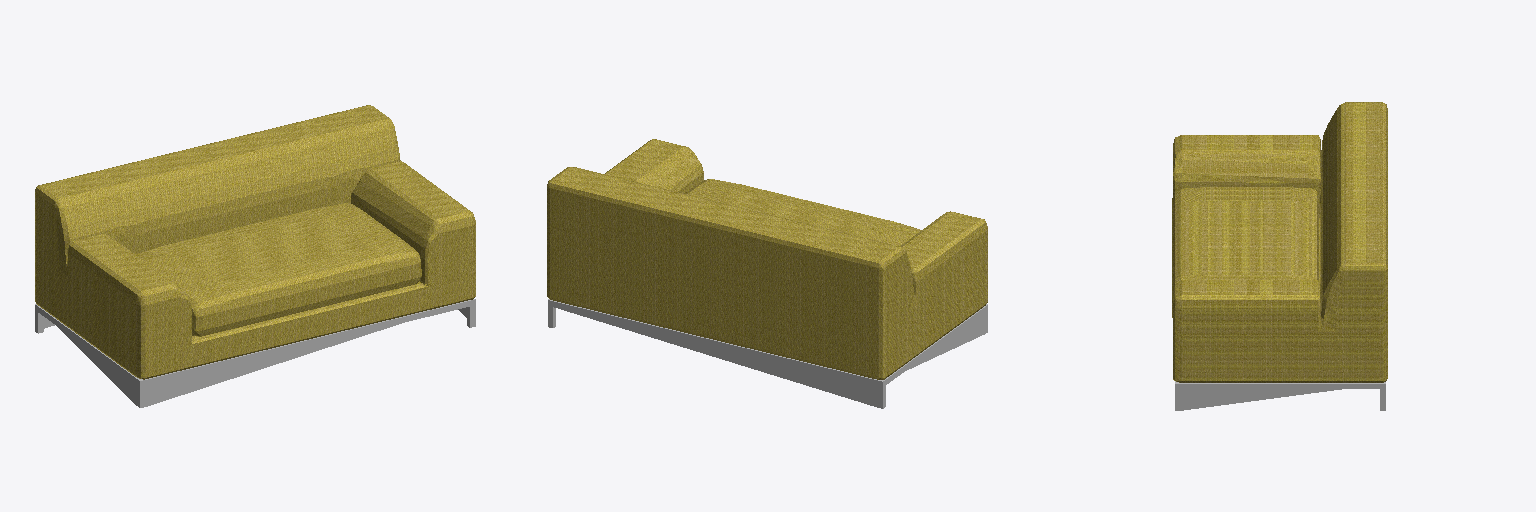
3 renders of one model, left to right at view 1: azimuth 30°, elevation 25°; view 2: azimuth 150°, elevation 25°; view 3: azimuth 270°, elevation 25°, orthographic.
Visible parts, largest first — view 1: Mesh2 Box24 Group1 Kramfors_Two_seat_sofa1 Model, Mesh1 Object12 Group1 Kramfors_Two_seat_sofa1 Model, Mesh3 Component_10_1 Group1 Kramfors_Two_seat_sofa1 Model; view 2: Mesh2 Box24 Group1 Kramfors_Two_seat_sofa1 Model, Mesh3 Component_10_1 Group1 Kramfors_Two_seat_sofa1 Model, Mesh1 Object12 Group1 Kramfors_Two_seat_sofa1 Model; view 3: Mesh2 Box24 Group1 Kramfors_Two_seat_sofa1 Model, Mesh1 Object12 Group1 Kramfors_Two_seat_sofa1 Model, Mesh3 Component_10_1 Group1 Kramfors_Two_seat_sofa1 Model.
Boxes of the visible parts, box(x1,y1,x2,y2) form: Mesh2 Box24 Group1 Kramfors_Two_seat_sofa1 Model: box(35, 105, 475, 379); Mesh1 Object12 Group1 Kramfors_Two_seat_sofa1 Model: box(135, 203, 421, 336); Mesh3 Component_10_1 Group1 Kramfors_Two_seat_sofa1 Model: box(35, 299, 475, 407); Mesh2 Box24 Group1 Kramfors_Two_seat_sofa1 Model: box(547, 139, 987, 379); Mesh3 Component_10_1 Group1 Kramfors_Two_seat_sofa1 Model: box(548, 299, 987, 408); Mesh1 Object12 Group1 Kramfors_Two_seat_sofa1 Model: box(684, 179, 920, 245); Mesh2 Box24 Group1 Kramfors_Two_seat_sofa1 Model: box(1173, 102, 1387, 382); Mesh1 Object12 Group1 Kramfors_Two_seat_sofa1 Model: box(1172, 187, 1318, 317); Mesh3 Component_10_1 Group1 Kramfors_Two_seat_sofa1 Model: box(1175, 381, 1385, 410).
Bounding box in the file's own units: 70.67 × 29.2 × 38.97.
Materials: 2 (1 with a texture image).